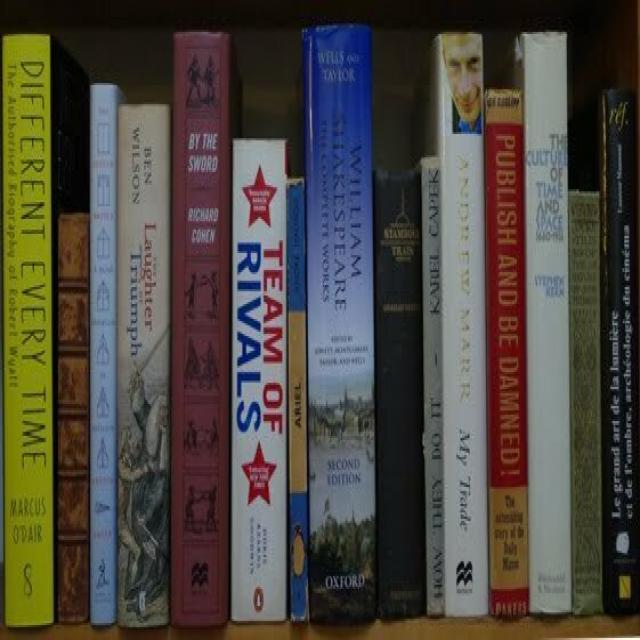book: (304, 23, 372, 627), (168, 30, 231, 627), (2, 35, 55, 624), (439, 34, 490, 617), (117, 105, 170, 627), (231, 142, 287, 622), (526, 28, 569, 617), (485, 90, 528, 620), (376, 170, 425, 618), (601, 90, 639, 611), (569, 190, 604, 615), (90, 80, 117, 625), (57, 207, 89, 625), (287, 179, 309, 629), (424, 156, 443, 617)
